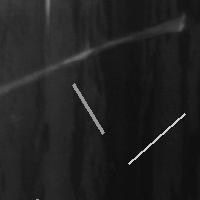scratches: (4, 14, 186, 96), (124, 108, 190, 168), (68, 79, 108, 138), (0, 194, 42, 200)
